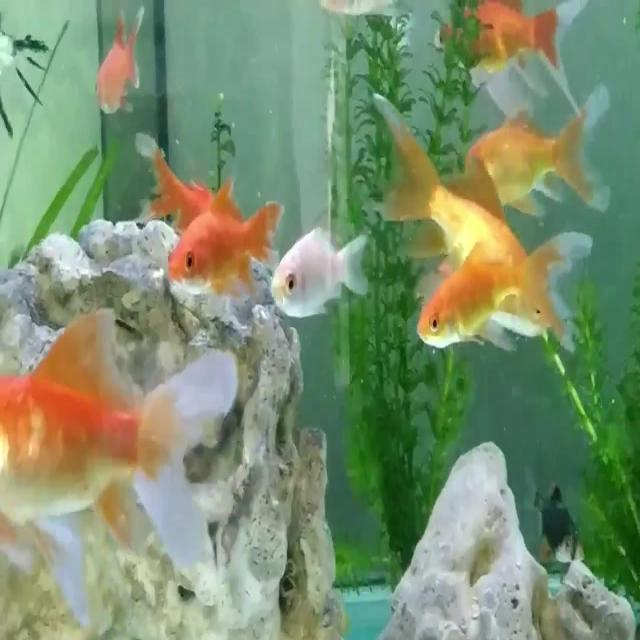GoldFish: (0, 301, 250, 625), (409, 218, 595, 362), (160, 173, 294, 307), (86, 0, 150, 121)
